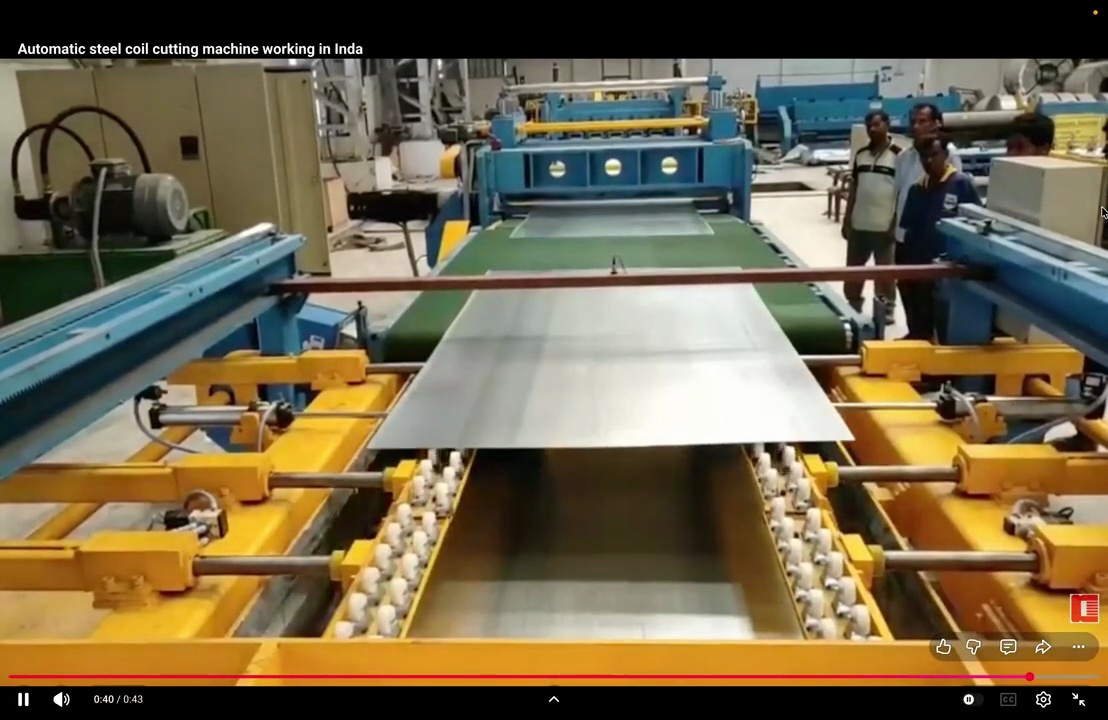steel plate: (369, 285, 851, 449), (511, 202, 713, 238)
